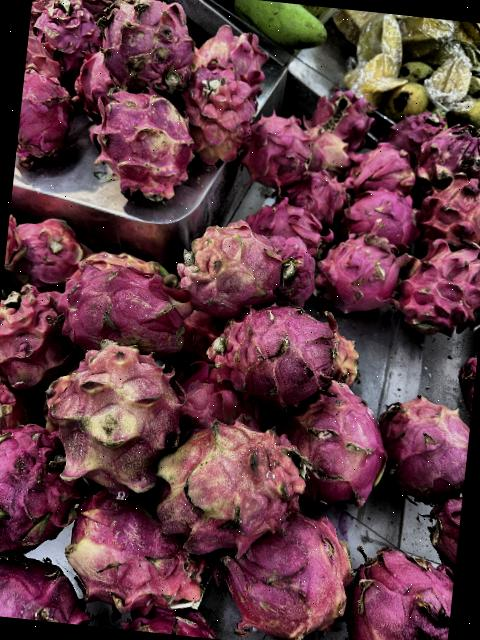buah-naga-belum-matang: (40, 347, 190, 494), (151, 417, 307, 550), (58, 491, 205, 605), (218, 518, 353, 640), (283, 386, 398, 508), (86, 89, 202, 201), (168, 220, 290, 326), (379, 398, 472, 498), (179, 68, 252, 160), (190, 23, 272, 88), (346, 145, 421, 191), (300, 122, 353, 176), (326, 334, 370, 390)
buah-naga-matang: (318, 538, 456, 640), (0, 411, 83, 555), (0, 282, 95, 396), (3, 210, 98, 304), (400, 228, 480, 337), (97, 0, 189, 92), (238, 108, 320, 195), (318, 231, 407, 310), (0, 547, 89, 625), (16, 63, 83, 164), (230, 194, 325, 251), (346, 180, 422, 245), (417, 168, 480, 241), (308, 88, 384, 144), (281, 166, 350, 227), (419, 124, 480, 190), (262, 234, 318, 296), (30, 0, 93, 55), (385, 103, 439, 155), (69, 48, 114, 108)
